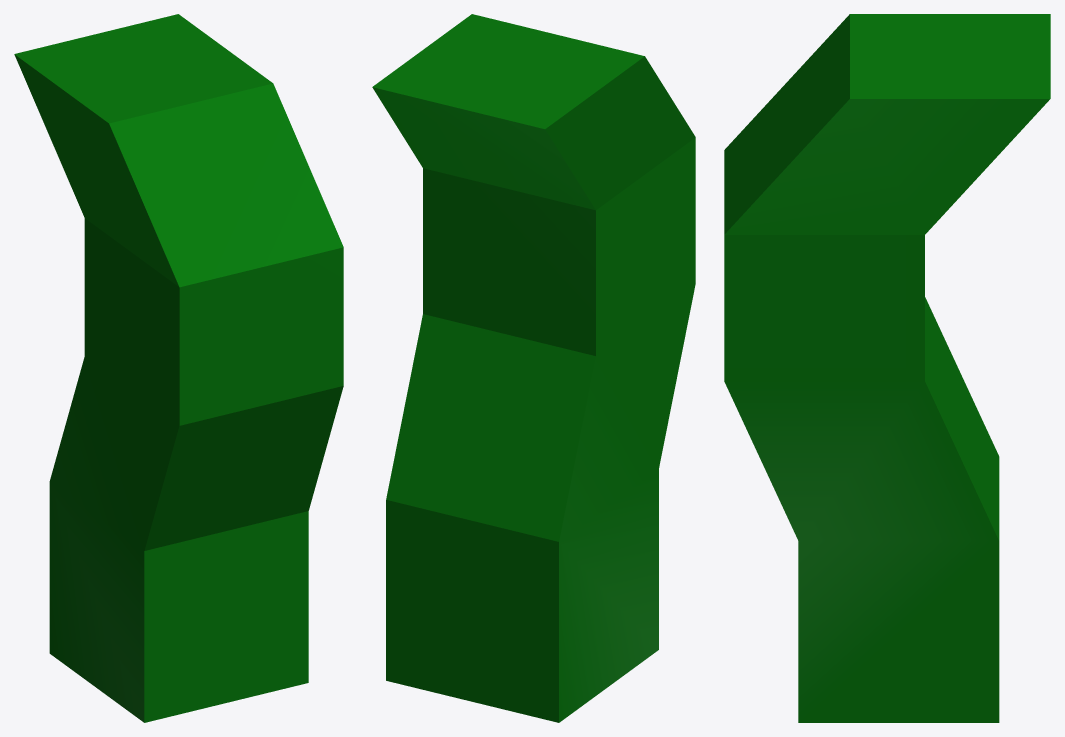
The picture shows the model from 3 angles, left to right: view 1: azimuth 30°, elevation 25°; view 2: azimuth 150°, elevation 25°; view 3: azimuth 270°, elevation 25°; orthographic projection. The views are drawn at different scales.
Visible parts, largest first — view 1: Cube; view 2: Cube; view 3: Cube.
Boxes of the visible parts, box(x1,y1,x2,y2) form: Cube: box(14, 14, 343, 722); Cube: box(372, 14, 695, 722); Cube: box(724, 14, 1050, 722).
Bounding box in the file's own units: 2.13 × 3.25 × 6.8.
